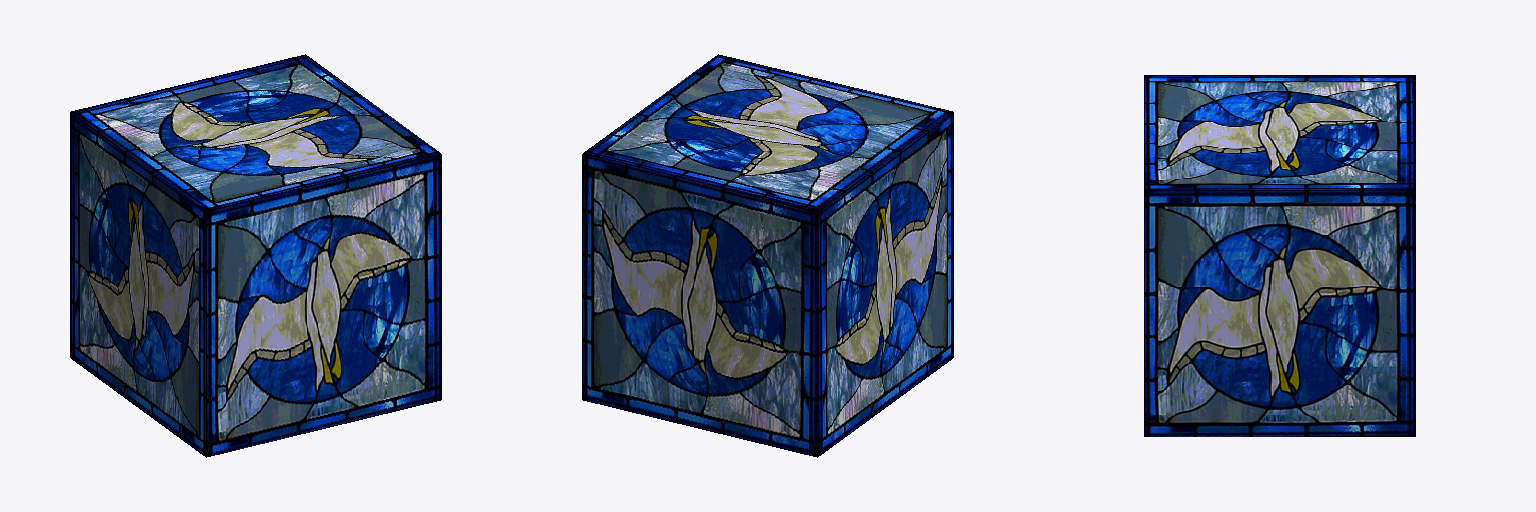
3 renders of one model, left to right at view 1: azimuth 30°, elevation 25°; view 2: azimuth 150°, elevation 25°; view 3: azimuth 270°, elevation 25°, orthographic.
Parts seen in each view (by area): view 1: Object__0; view 2: Object__0; view 3: Object__0.
Boxes of the visible parts, x1=… form: Object__0: x1=70, y1=54, x2=441, y2=457; Object__0: x1=582, y1=54, x2=953, y2=457; Object__0: x1=1144, y1=75, x2=1415, y2=436.
Size of the model in its own units: 1 by 1 by 1.
Materials: 1 (1 with a texture image).